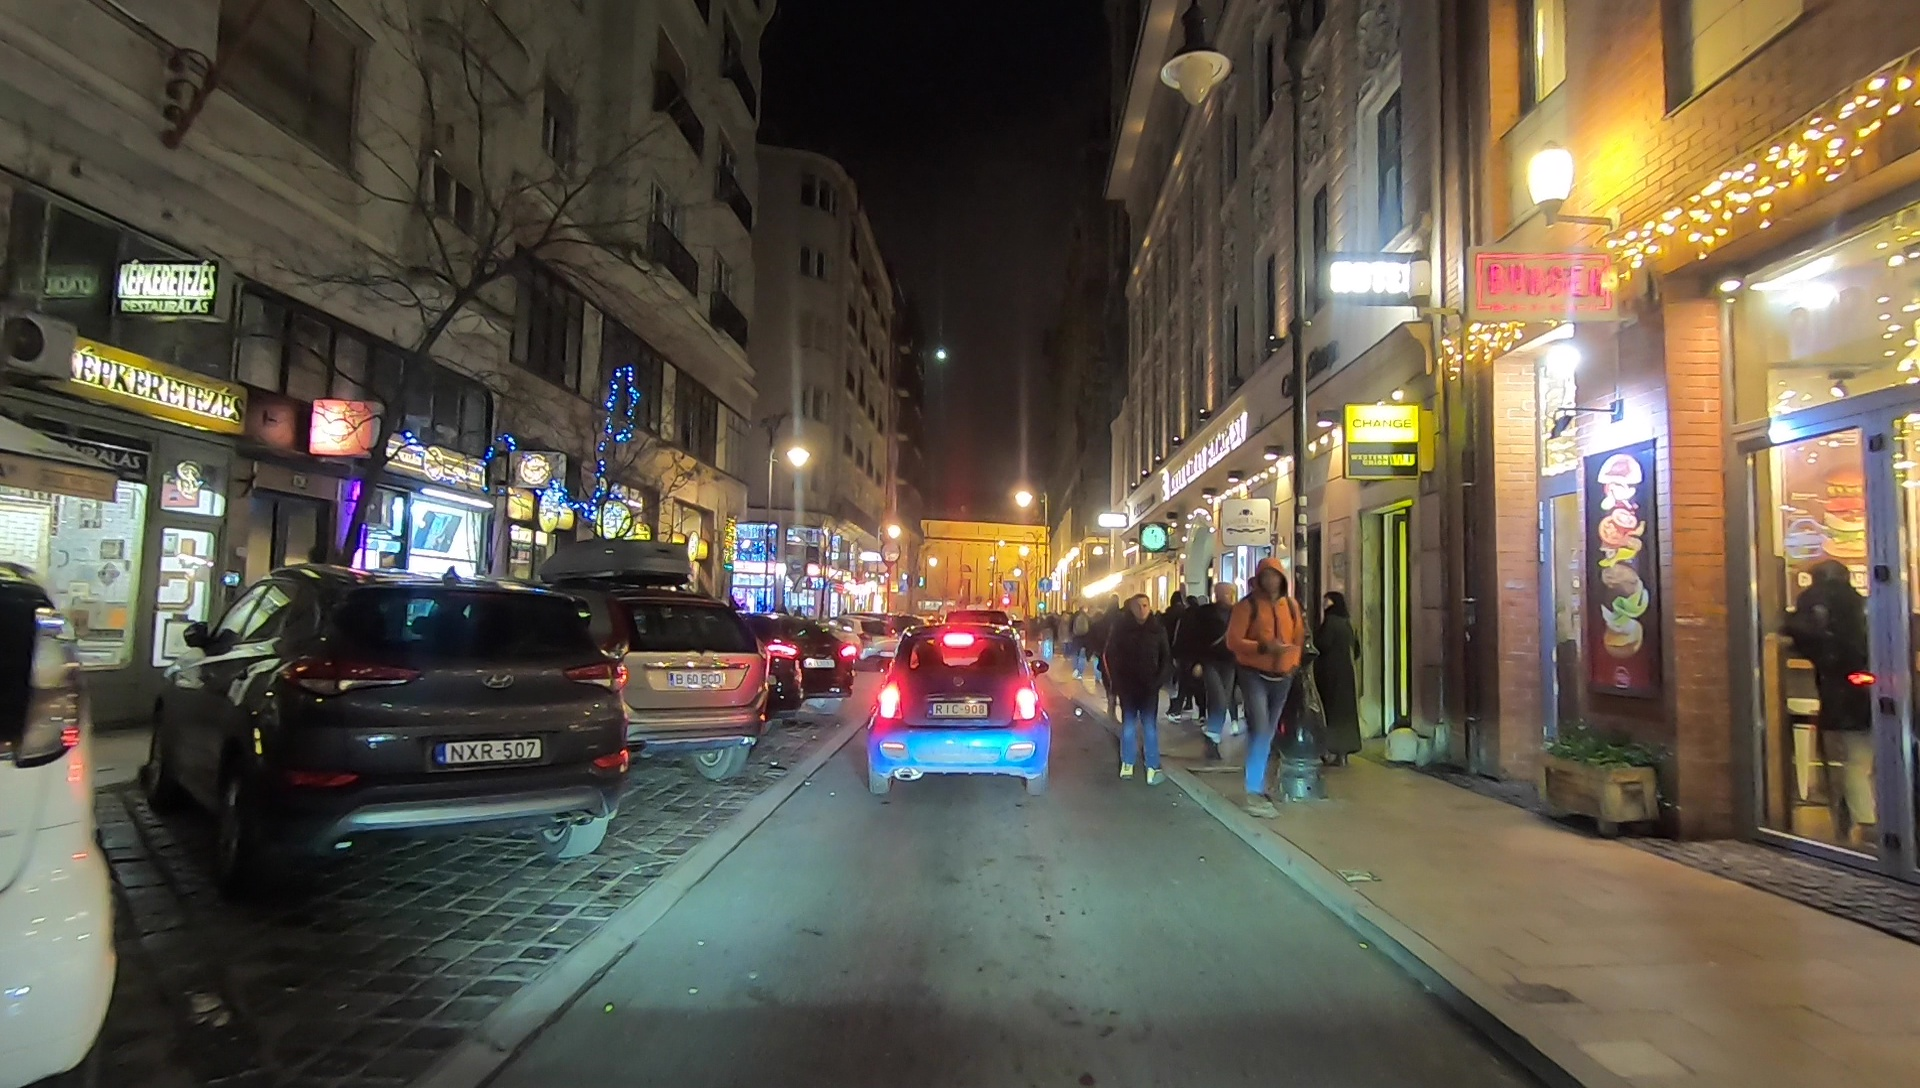person: (1236, 552, 1301, 808), (1108, 588, 1170, 787), (1317, 588, 1366, 767), (1200, 575, 1245, 761), (1176, 595, 1203, 720)
